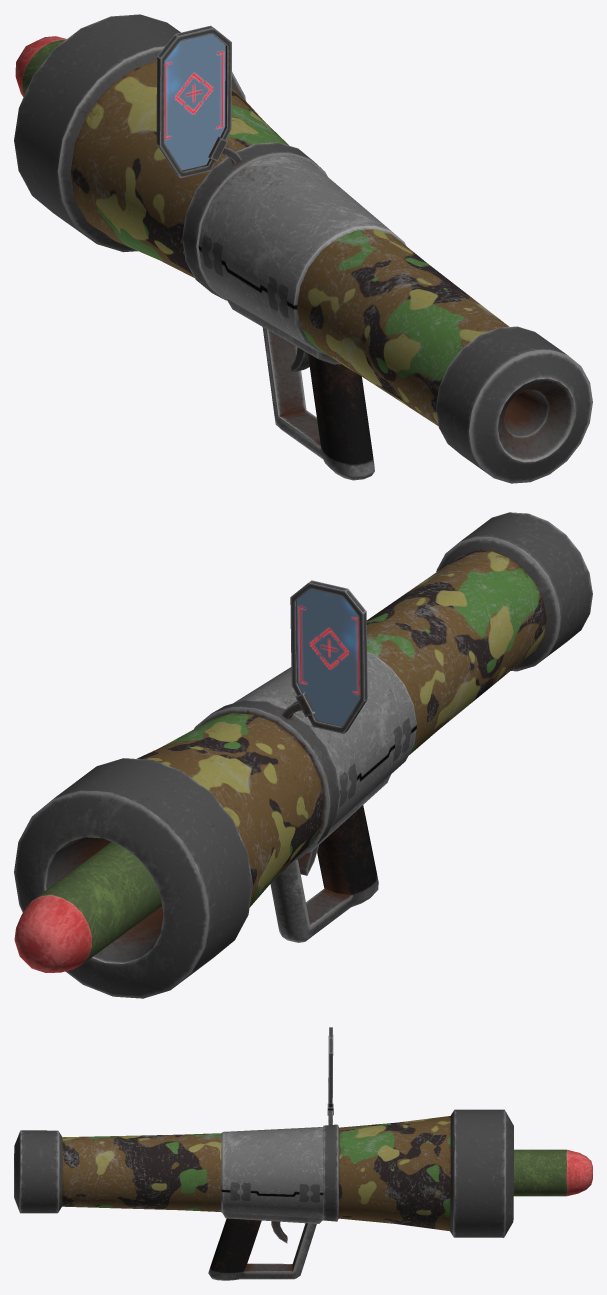
The model's file is Bazooka.fbx.
3 renders of one model, top to bottom at view 1: azimuth 30°, elevation 25°; view 2: azimuth 150°, elevation 25°; view 3: azimuth 270°, elevation 25°, orthographic. The views are drawn at different scales.
Parts seen in each view (by area): view 1: bazooka_base_low.002, wing_4_low.002; view 2: bazooka_base_low.002, wing_4_low.002; view 3: bazooka_base_low.002, wing_4_low.002.
Boxes of the visible parts, bbox=[...] form: bazooka_base_low.002: bbox=[14, 14, 592, 483]; wing_4_low.002: bbox=[15, 36, 66, 96]; bazooka_base_low.002: bbox=[14, 512, 592, 998]; wing_4_low.002: bbox=[14, 842, 161, 972]; bazooka_base_low.002: bbox=[14, 1027, 513, 1280]; wing_4_low.002: bbox=[514, 1149, 592, 1196].
Size of the model in its own units: 18.86 by 35.38 by 82.13.
Materials: 1 (1 with a texture image).
